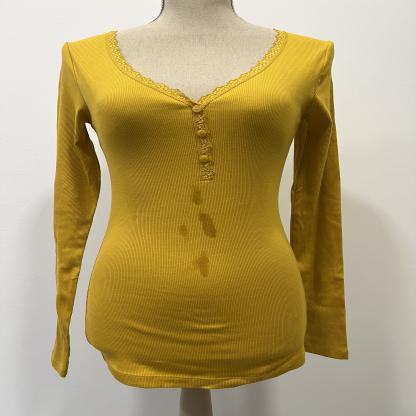stain: (192, 208, 222, 241), (189, 247, 213, 282), (186, 182, 206, 210), (174, 222, 194, 242)
